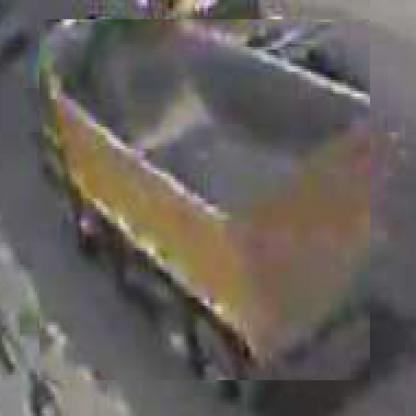truck: (41, 20, 374, 384)
